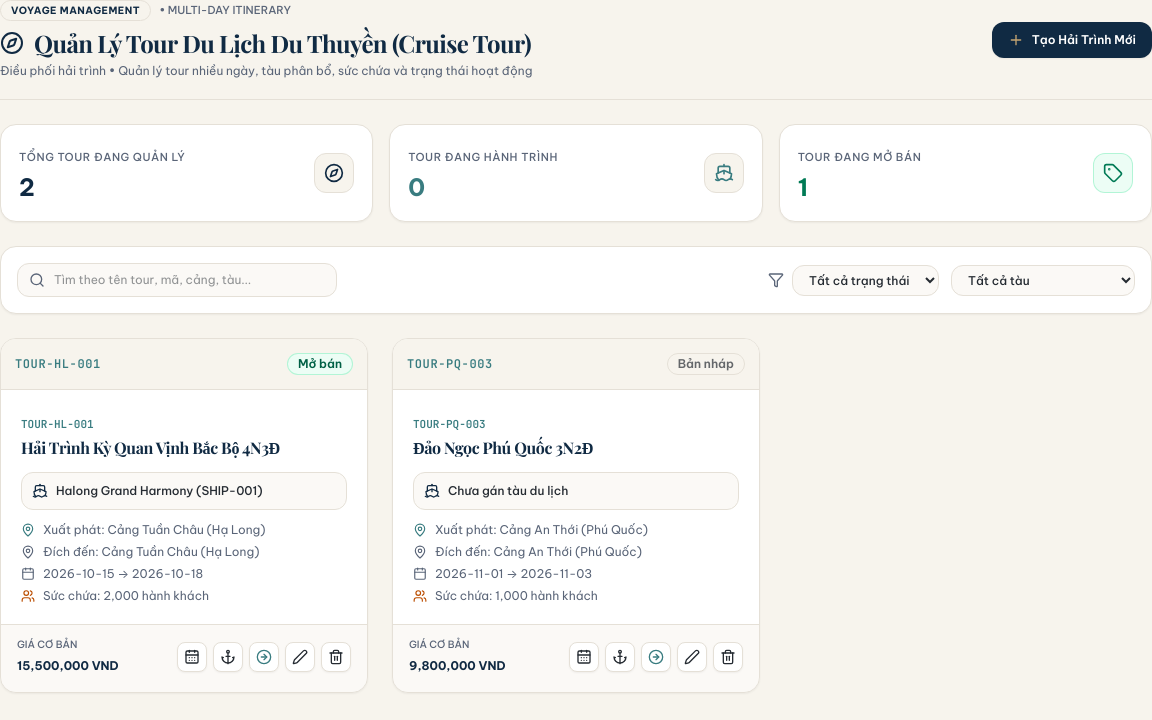
Test case: ItineraryPage (Cruise Tour Management Interface) › opens TourFormModal prefilled when clicking edit button
The width and height of the screenshot is (1152, 720).
Expected: the heading "Hải Trình Kỳ Quan Vịnh Bắc Bộ 4N3Đ" is shown, x1=21 y1=437 x2=280 y2=458
Click the button titled "Chỉnh sửa tour" in the row of "15,500,000": (300, 656) x1=285 y1=642 x2=315 y2=672
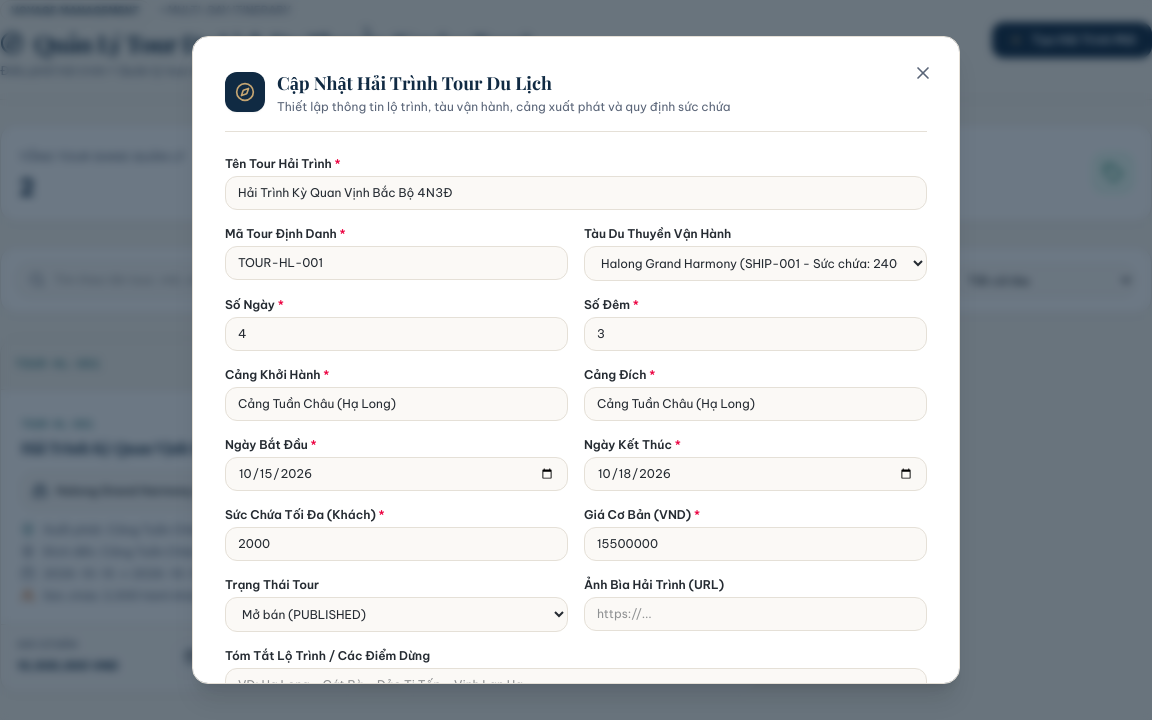
Expected: the heading "Cập Nhật Hải Trình Tour Du Lịch" is shown, x1=277 y1=71 x2=552 y2=95
Expected: the field showing "TOUR-HL-001" is shown, x1=225 y1=246 x2=568 y2=280
